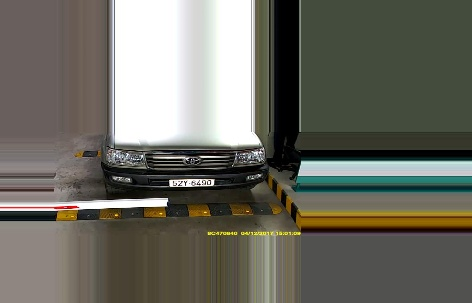plate: (167, 172, 217, 190)
